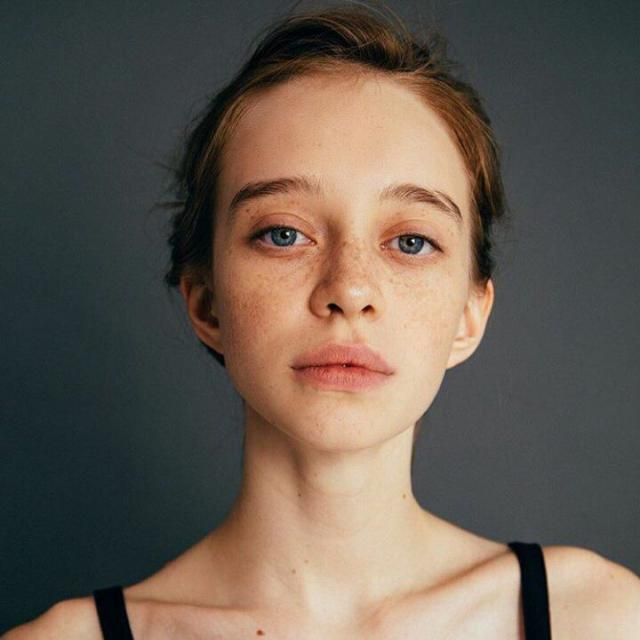earlobe: (445, 276, 495, 371), (178, 260, 226, 354)
